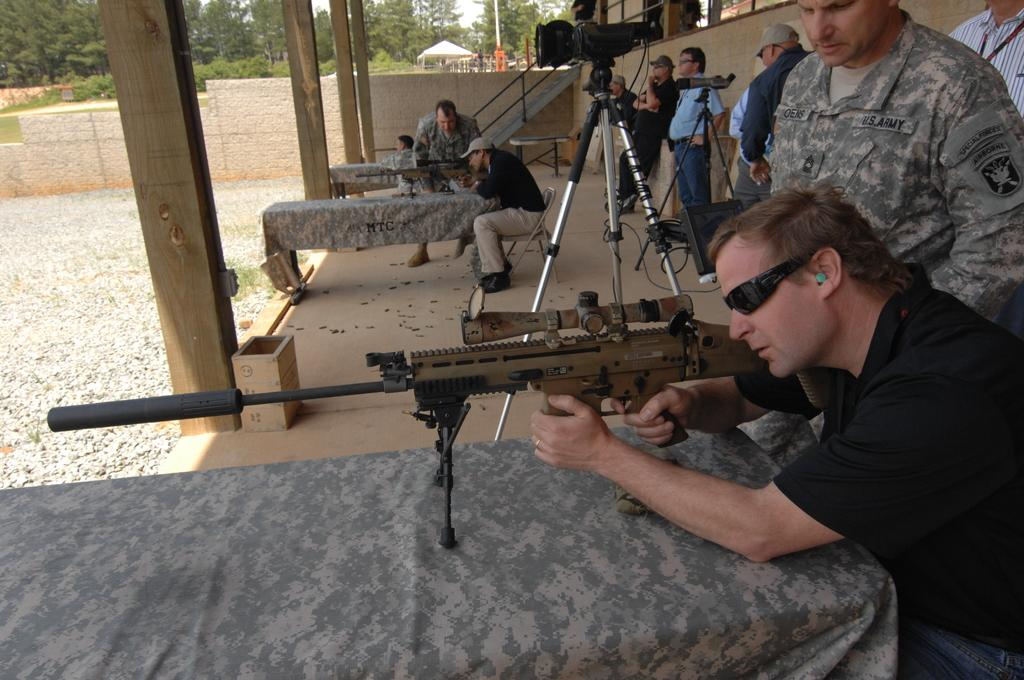Rifle: (44, 291, 768, 552), (352, 156, 473, 197)
